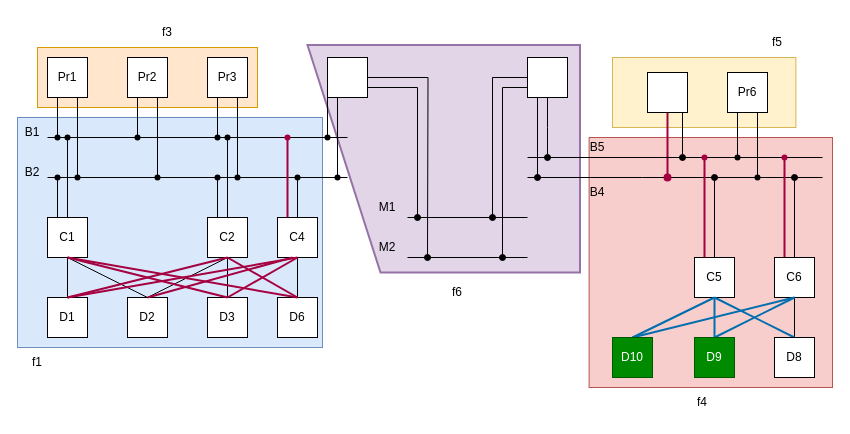
Some shapes in this 850 by 434 pixel diagram are drawn without their labels. The shapes that lost their labels are listed below. From the top down, each one's box as (x1, y1, x2, y2) in pixels, then its label:
(326, 56, 368, 98): A1
(526, 56, 568, 98): A2
(646, 72, 688, 112): Pr5
